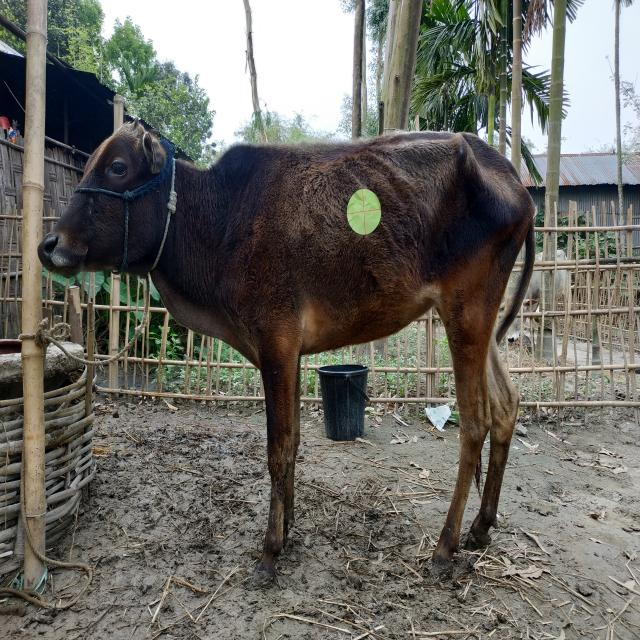badan_sapi: (214, 133, 533, 350)
sapi: (37, 114, 551, 586)
